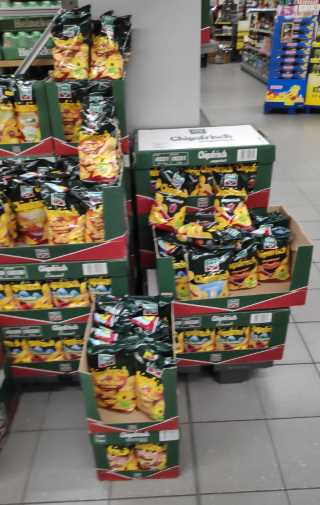chipsfrisch: (88, 346, 132, 413), (147, 168, 192, 232), (134, 346, 171, 420), (51, 8, 90, 78), (76, 120, 120, 182), (43, 184, 85, 242), (89, 19, 127, 80), (13, 176, 45, 244), (188, 250, 228, 300), (256, 227, 293, 281), (215, 173, 250, 229), (14, 79, 41, 142), (57, 81, 82, 141), (228, 242, 259, 289)
